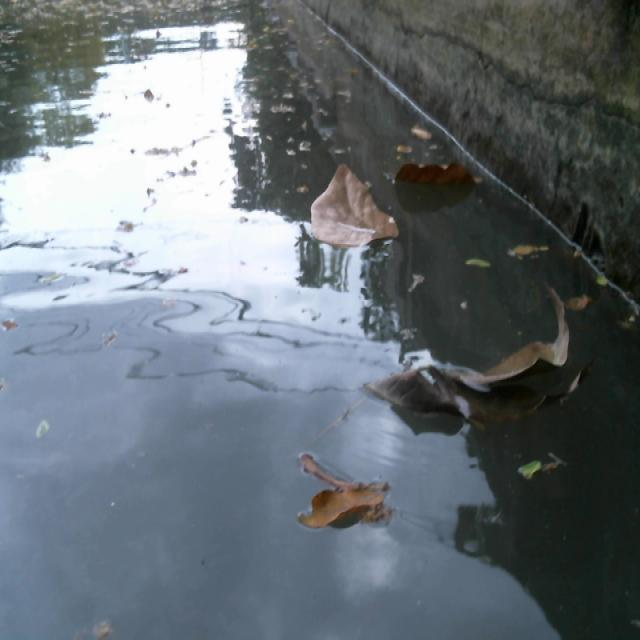Big-leaf: (366, 288, 593, 428), (295, 451, 401, 564), (308, 156, 402, 258), (396, 149, 480, 205)
Small-leaf: (522, 448, 570, 491), (508, 226, 552, 269), (463, 246, 505, 283), (407, 269, 438, 308), (406, 121, 445, 148), (594, 267, 621, 297), (618, 305, 640, 338)
